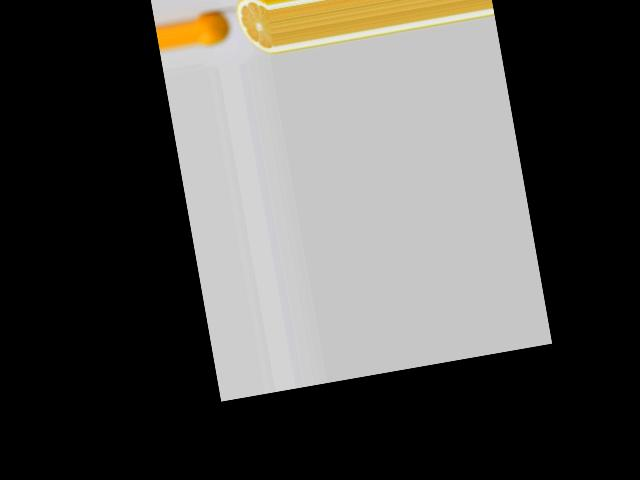lemon: (193, 13, 229, 45)
